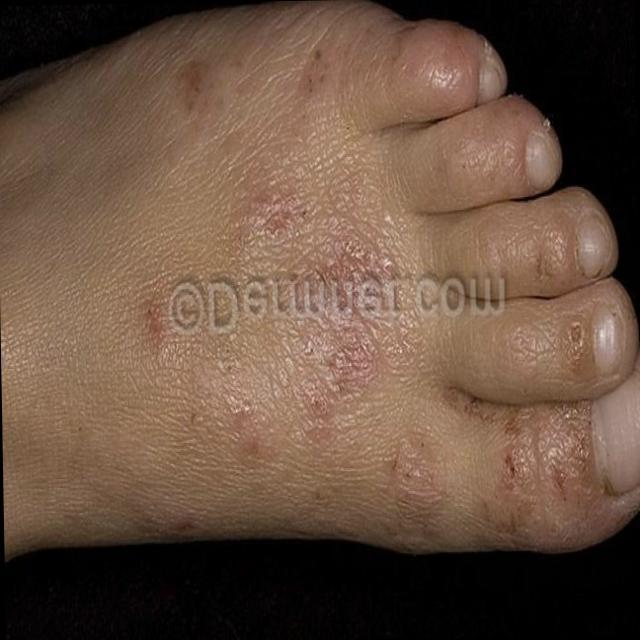Eczema: (126, 57, 576, 556)
